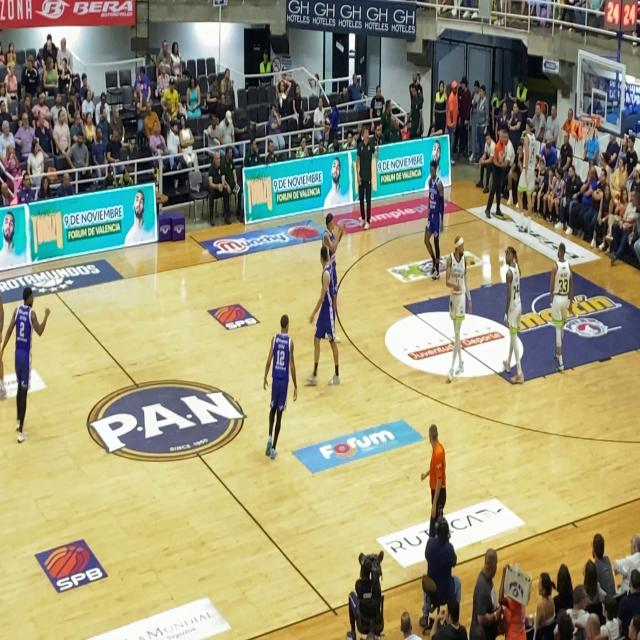team1: (544, 230, 576, 390)
team2: (306, 188, 348, 389), (5, 271, 48, 436), (257, 302, 297, 459), (415, 154, 446, 279)
ubasket: (578, 112, 601, 146)
